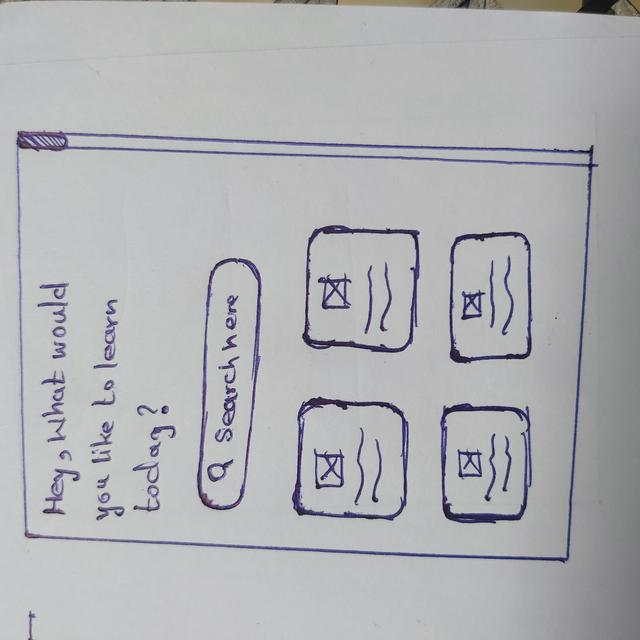CardView: (304, 225, 418, 353), (294, 399, 410, 522), (446, 231, 533, 362), (440, 404, 534, 525)
EditText: (193, 257, 263, 512)
Icon: (206, 459, 234, 482)
Image: (316, 453, 345, 487), (322, 278, 348, 309), (459, 451, 482, 477), (463, 292, 483, 319)
MainLayout: (17, 130, 570, 561)
ScrollBar: (18, 131, 591, 171)
TextView: (37, 280, 73, 519), (93, 297, 116, 518), (134, 401, 166, 508), (355, 430, 386, 508), (366, 261, 393, 333), (493, 257, 513, 336), (490, 430, 512, 497)
